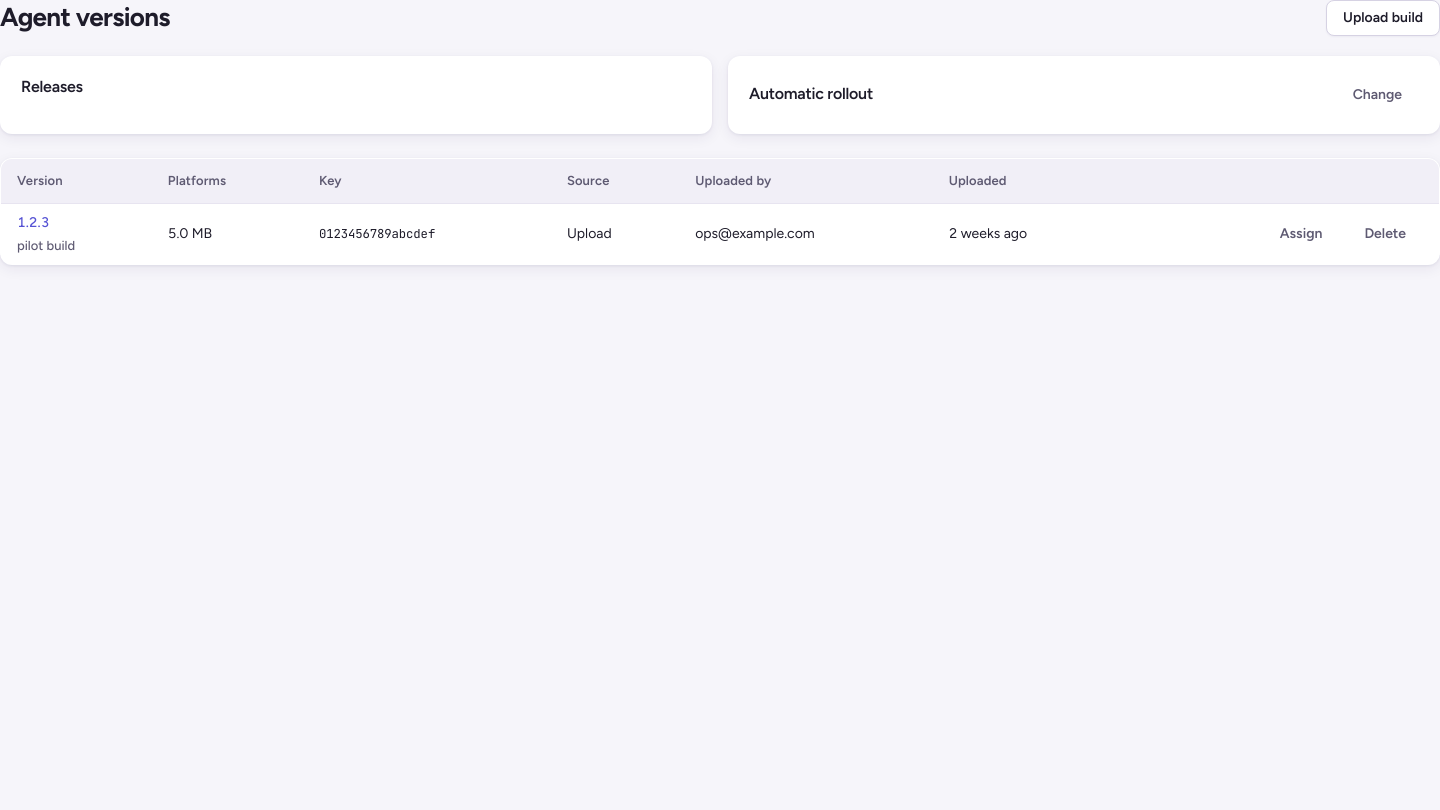
Test: AgentVersions › states plainly what assigning a build does
This screenshot has width=1440, height=810.
Check: the button "1.2.3" is shown, box [17,212,49,234]
Click the button "Assign". click: (1301, 234)
box: [1263,216,1339,252]
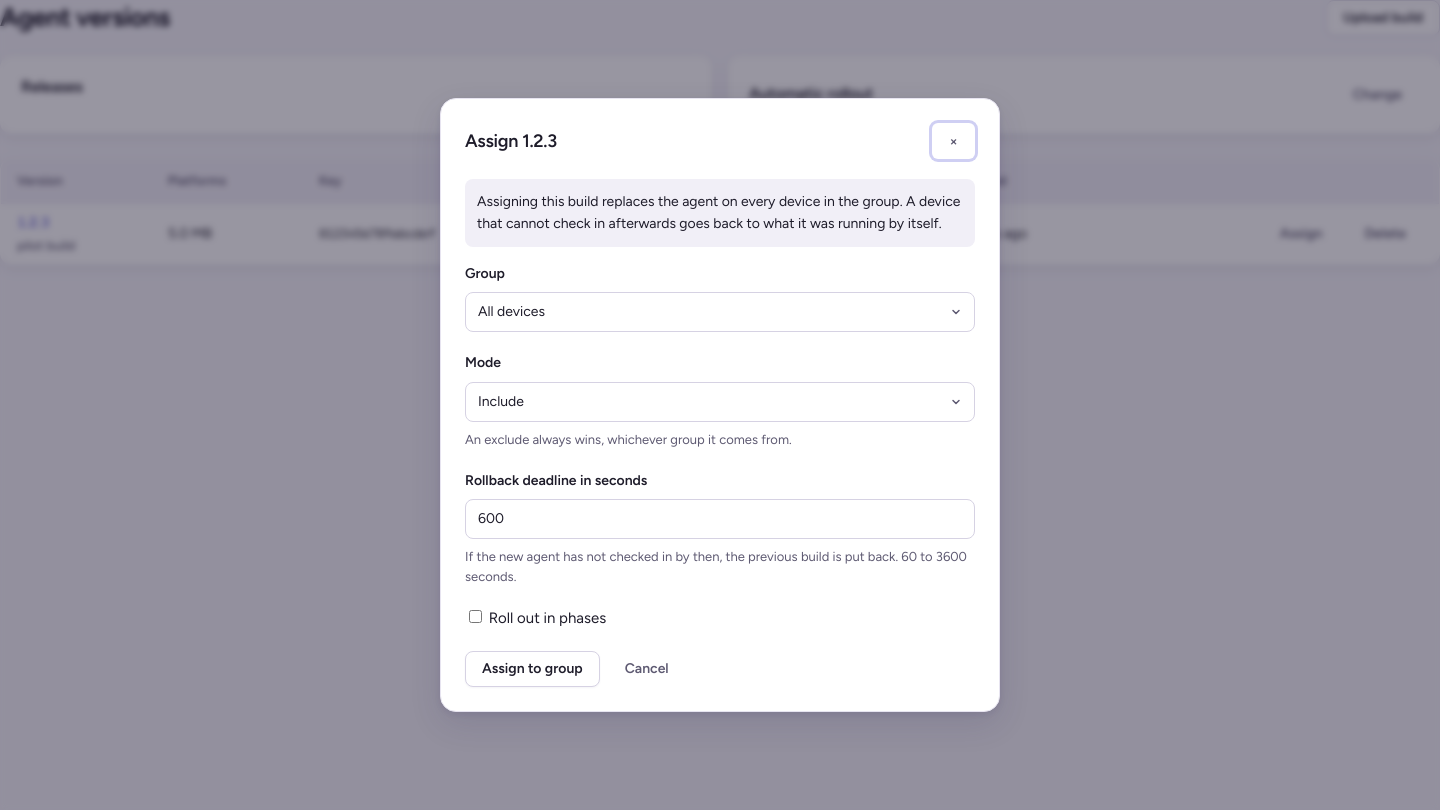
Check: the text "goes back to what it was running by itself" is shown, box [477,193,960,232]
